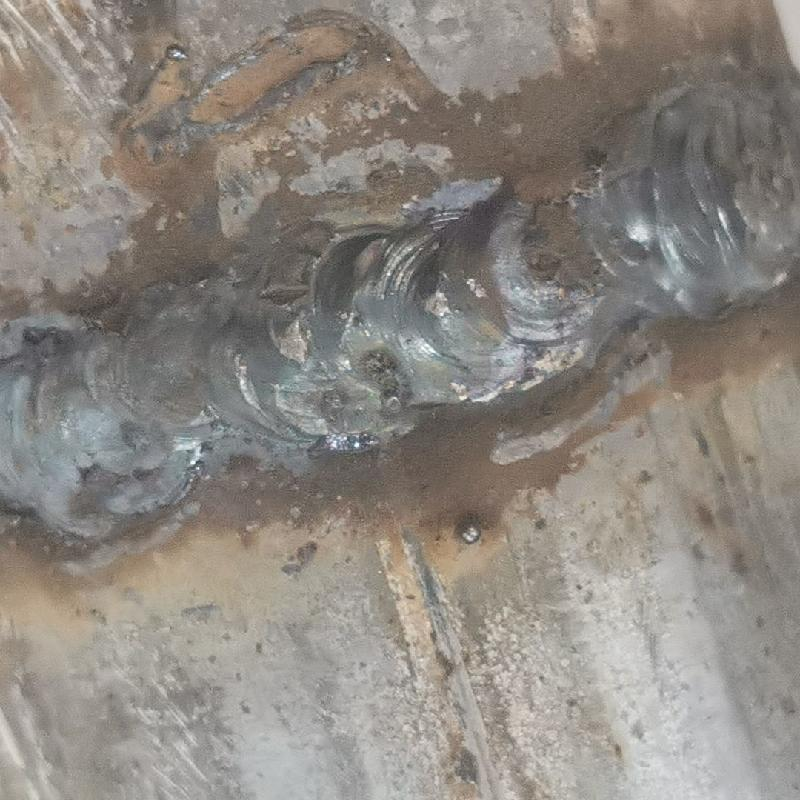good: (2, 57, 798, 543)
